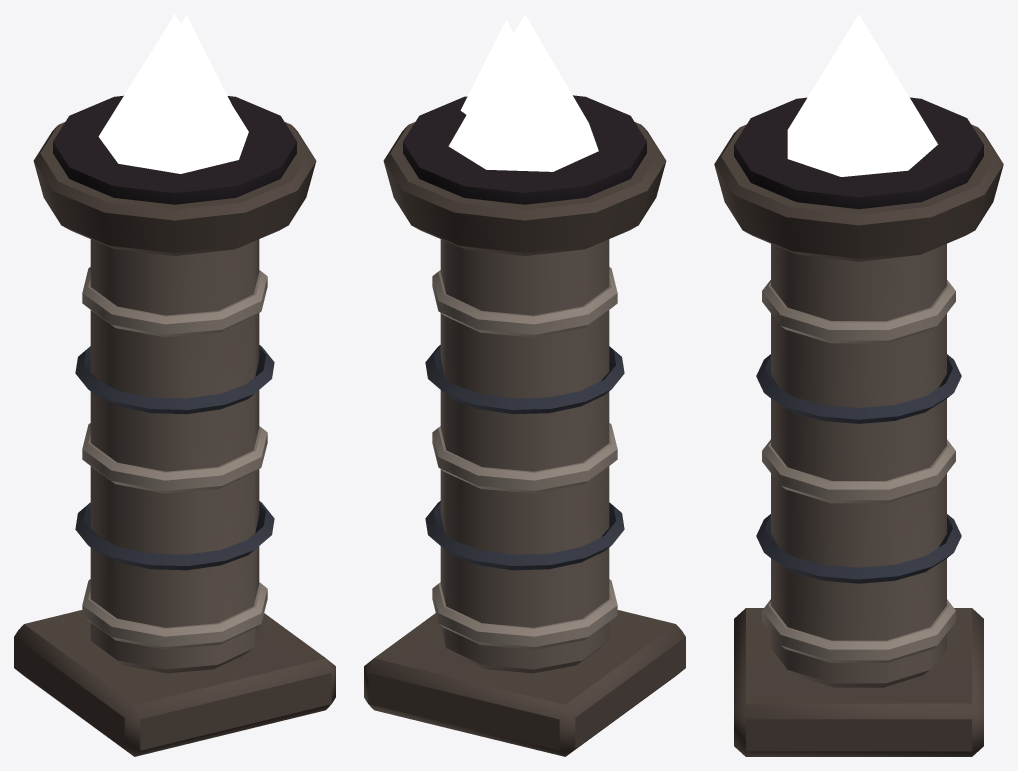
The model's file is mt_pillar_4.glb.
3 views of the same model, side by side, from view 1: azimuth 30°, elevation 25°; view 2: azimuth 150°, elevation 25°; view 3: azimuth 270°, elevation 25° (orthographic). The views are drawn at different scales.
Visible parts, largest first — view 1: body, pulse_flame_glow; view 2: body, pulse_flame_glow; view 3: body, pulse_flame_glow.
Boxes of the visible parts, x1,y1,x2,y2 form: body: [14, 95, 335, 756]; pulse_flame_glow: [98, 14, 248, 173]; body: [364, 95, 685, 756]; pulse_flame_glow: [448, 14, 598, 171]; body: [714, 97, 1003, 756]; pulse_flame_glow: [787, 14, 937, 176].
Bounding box in the file's own units: 1.97 × 5.22 × 1.97.
